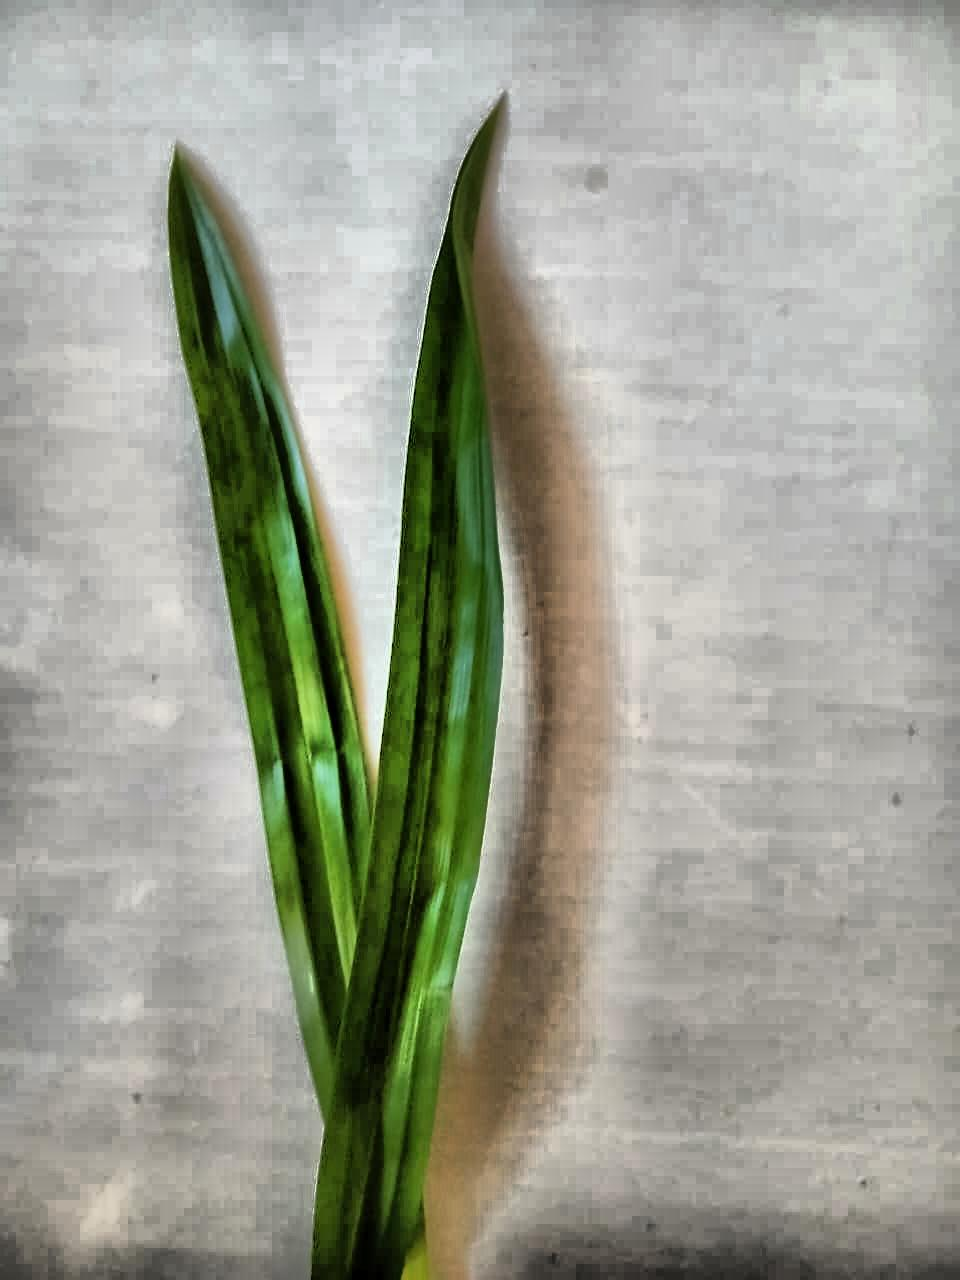daun pandan: (168, 106, 502, 1279)
